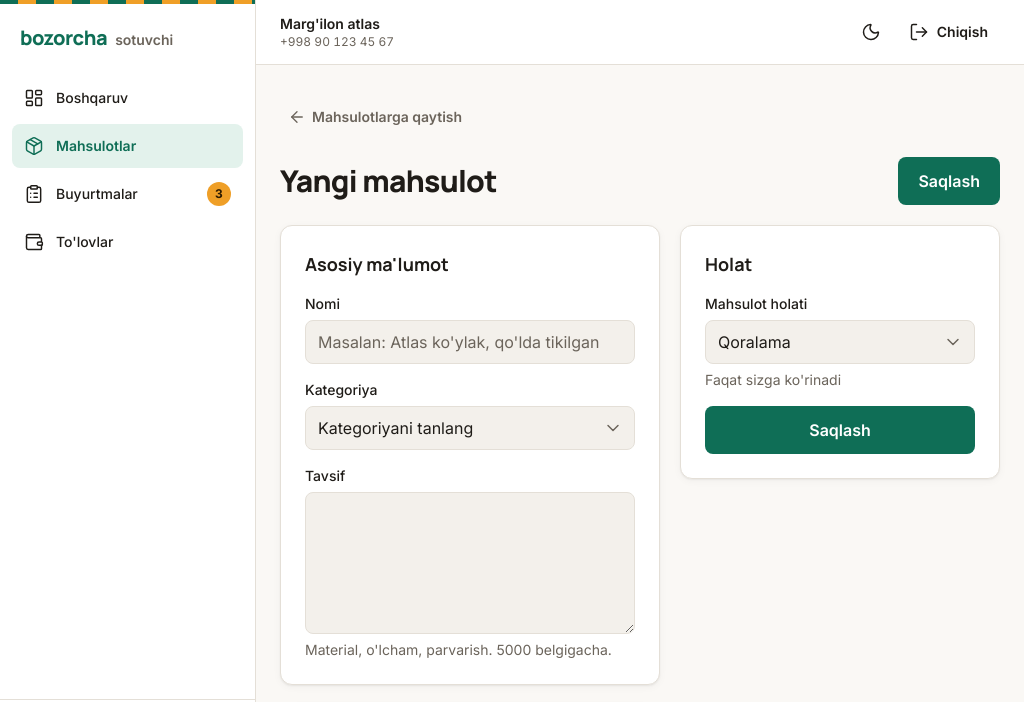
ProductEditorPage: validation › requires a variant before a product goes on sale
Type "Choynak" into the field labelled "Nomi" at x=470, y=342, box x1=305 y1=320 x2=635 y2=364
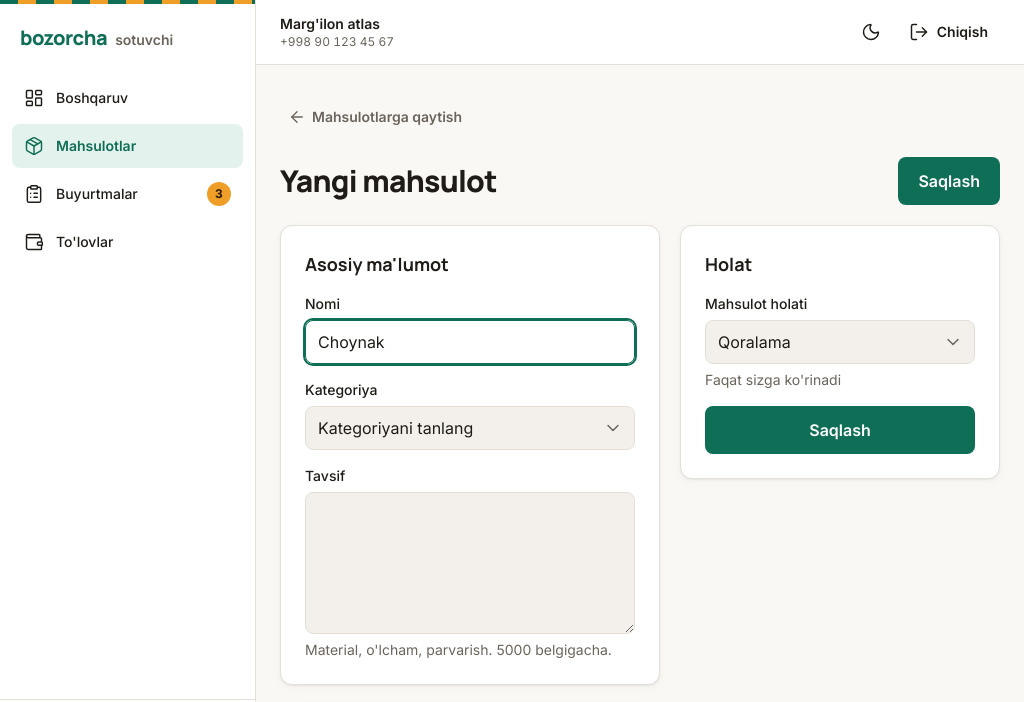
Select "Ayollar kiyimi" in the dropdown labelled "Kategoriya" at x=470, y=428, box x1=305 y1=406 x2=635 y2=450
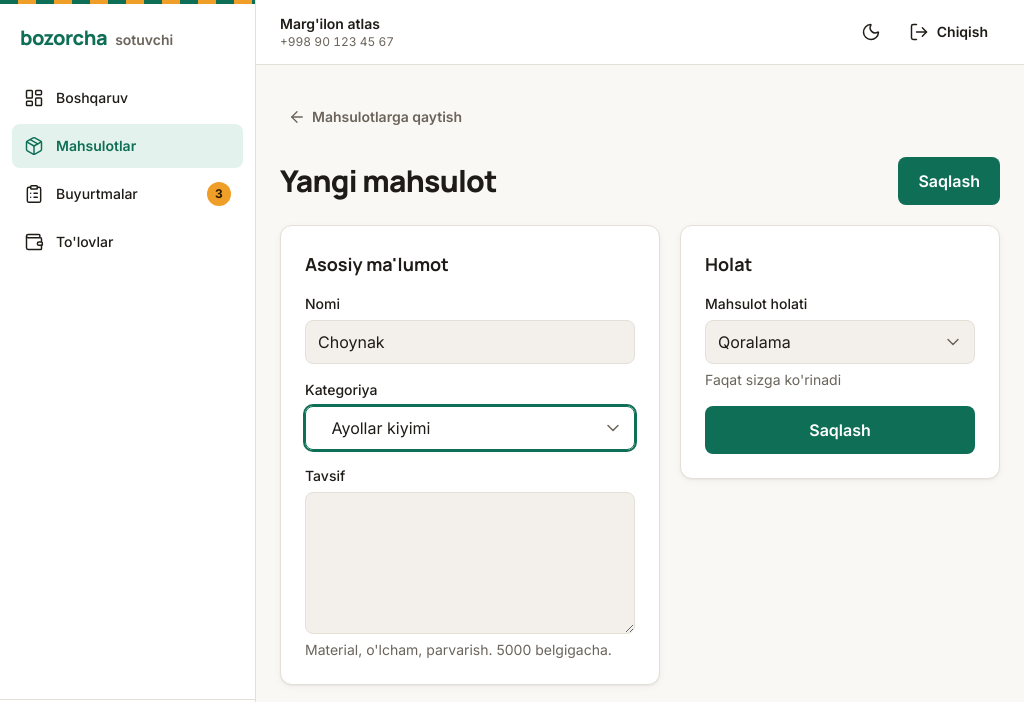
Select "Sotuvda" in the dropdown labelled "Mahsulot holati" at x=840, y=342, box x1=705 y1=320 x2=975 y2=364
(page scrolled)
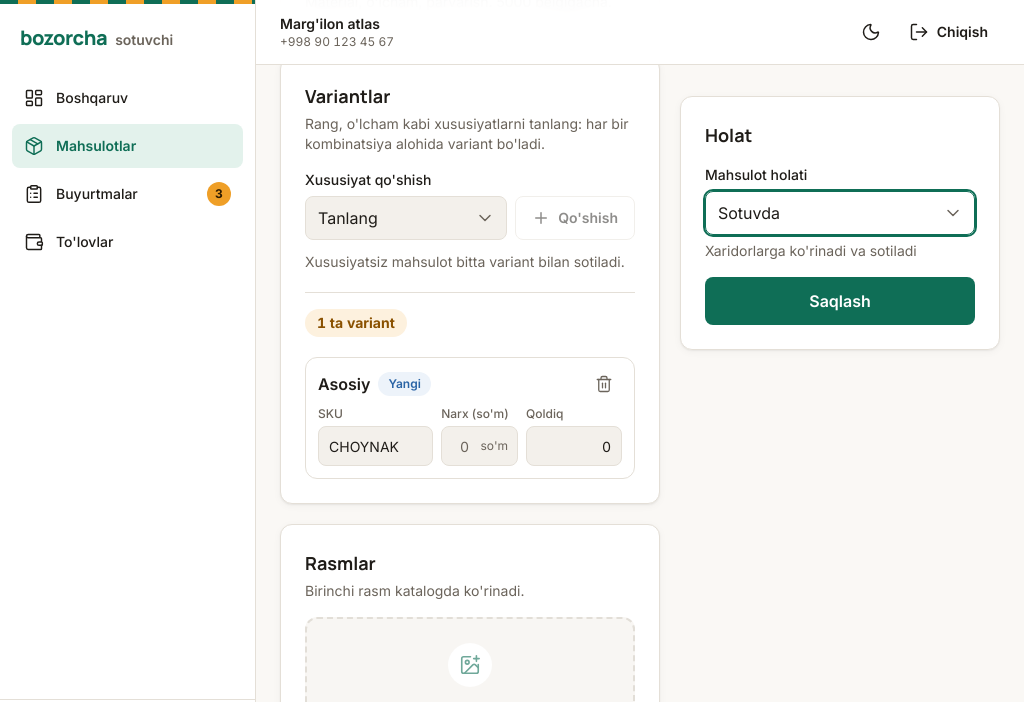
Click the button named "Olib tashlash: Asosiy" at x=604, y=384, box x1=586 y1=366 x2=622 y2=402
(page scrolled)
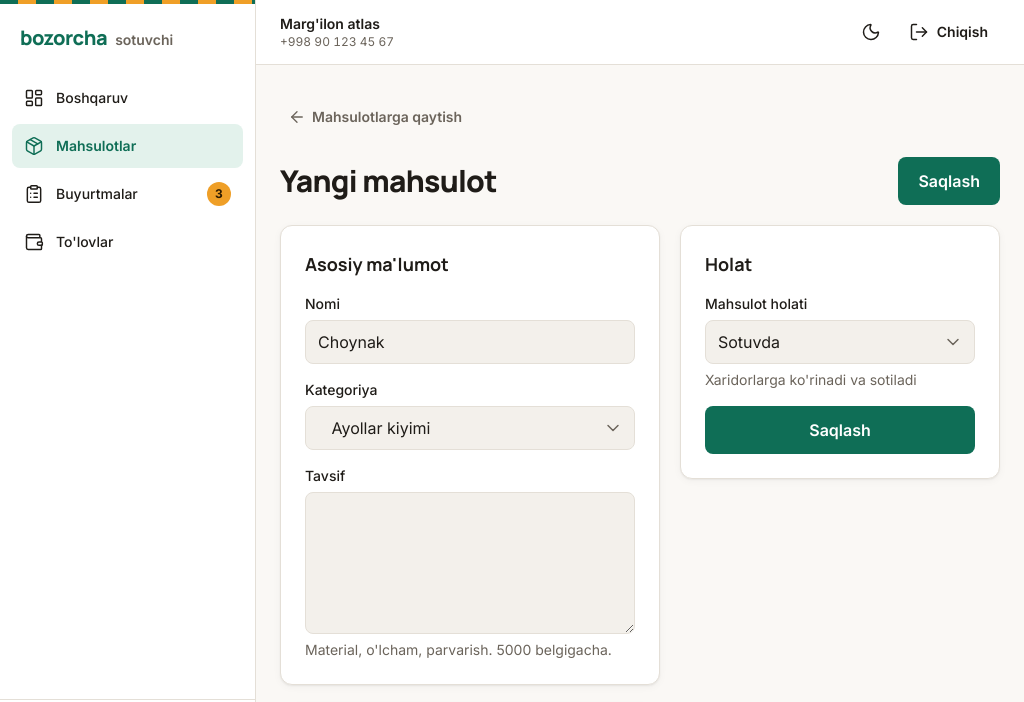
Click the button "Saqlash" in the row of "Yangi mahsulot" at x=949, y=181, box x1=898 y1=157 x2=1000 y2=205
(page scrolled)
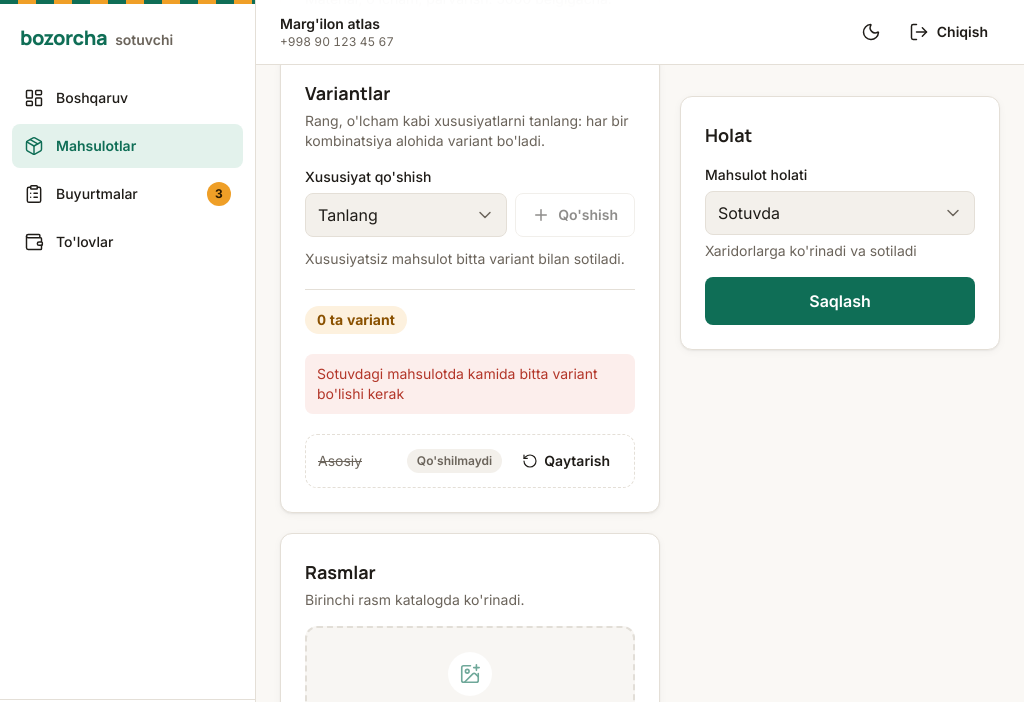
Result: the text "Sotuvdagi mahsulotda kamida bitta variant bo'lishi kerak" is shown at x1=305 y1=354 x2=635 y2=414
